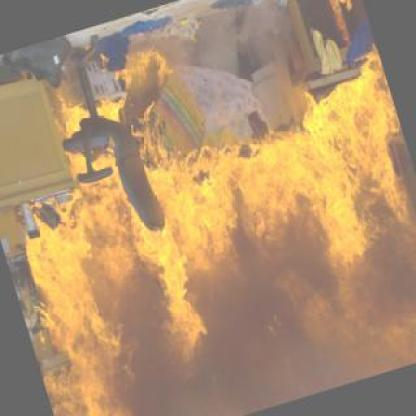Fire: (0, 11, 415, 414)
